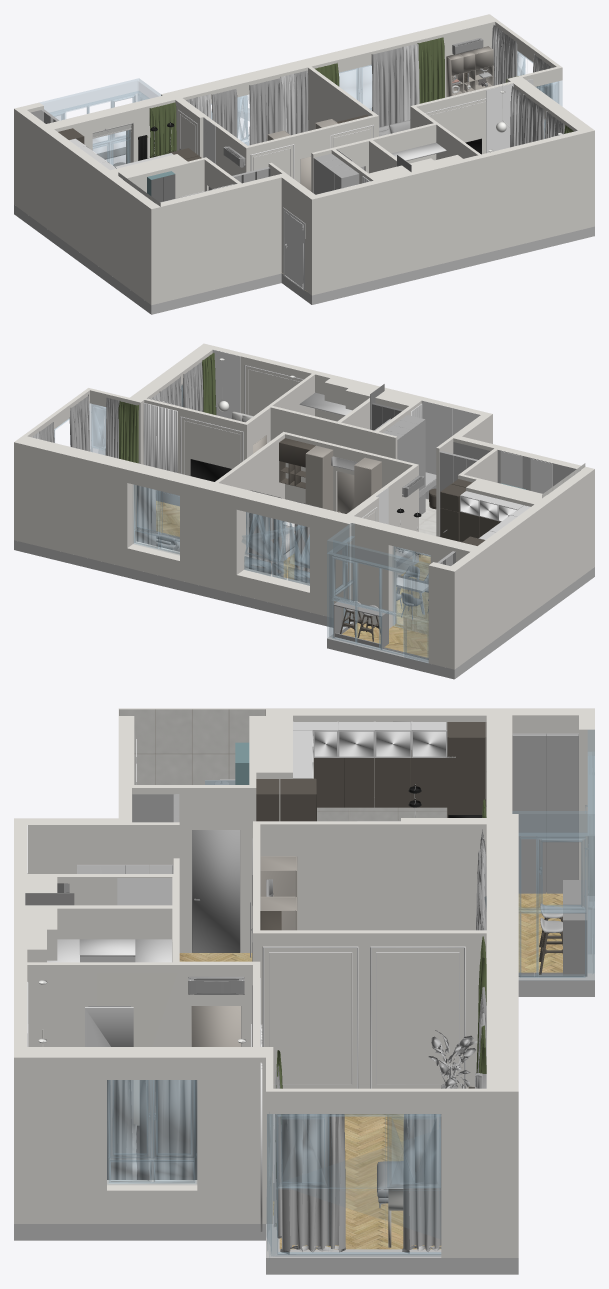
The model's file is apartment.glb.
3 renders of one model, top to bottom at view 1: azimuth 30°, elevation 25°; view 2: azimuth 150°, elevation 25°; view 3: azimuth 270°, elevation 25°, orthographic. The views are drawn at different scales.
Visible parts, largest first — view 1: Layer:0.013, Line014, Plane008, panoramic_glazing_5_486, Plane004, WT03_Table, Plane007, Rectangle1174529065, Box2131642365, Plane1196, Object001, Plane009 (+17 smaller); view 2: Layer:0.013, Line014, panoramic_glazing_5_486, ApartmentFloor, Window019, Window023, WOODS001, Window022, Plane004, Object657725880, Box2131642371, Box2131642378 (+27 smaller); view 3: Layer:0.013, panoramic_glazing_5_478, Object001, Line014, ApartmentFloor, Object_007, Window024, Plane1198, Line2000006704, door_paint004, Plane1203, panoramic_glazing_5_486 (+28 smaller).
Part boxes in pixels (x1,y1,x2,y2): Layer:0.013: [14, 14, 594, 305]; Line014: [14, 205, 594, 314]; Plane008: [371, 47, 403, 127]; panoramic_glazing_5_486: [40, 78, 161, 147]; Plane004: [249, 78, 282, 145]; WT03_Table: [446, 46, 493, 97]; Plane007: [417, 37, 444, 103]; Rectangle1174529065: [283, 207, 305, 290]; Box2131642365: [486, 83, 513, 152]; Plane1196: [149, 102, 176, 157]; Object001: [495, 21, 562, 86]; Plane009: [402, 43, 419, 121]; Layer:0.013: [14, 343, 594, 669]; Line014: [14, 540, 594, 679]; panoramic_glazing_5_486: [327, 523, 429, 662]; ApartmentFloor: [156, 501, 430, 657]; Window019: [242, 512, 309, 585]; Window023: [133, 484, 179, 554]; WOODS001: [143, 403, 177, 472]; Window022: [393, 546, 430, 633]; Plane004: [249, 490, 283, 576]; Object657725880: [305, 445, 333, 510]; Box2131642371: [212, 349, 240, 418]; Box2131642378: [422, 400, 452, 499]; Layer:0.013: [14, 708, 594, 1257]; panoramic_glazing_5_478: [266, 1114, 441, 1256]; Object001: [266, 1057, 486, 1257]; Line014: [14, 896, 594, 1274]; ApartmentFloor: [179, 892, 562, 1249]; Object_007: [512, 733, 578, 893]; Window024: [107, 1080, 196, 1184]; Plane1198: [280, 1114, 345, 1254]; Line2000006704: [119, 709, 265, 784]; door_paint004: [192, 830, 240, 952]; Plane1203: [139, 1080, 197, 1180]; panoramic_glazing_5_486: [512, 730, 594, 980].
Size of the model in its own units: 14.87 by 3.52 by 9.5.
Materials: 34 (2 with a texture image).
